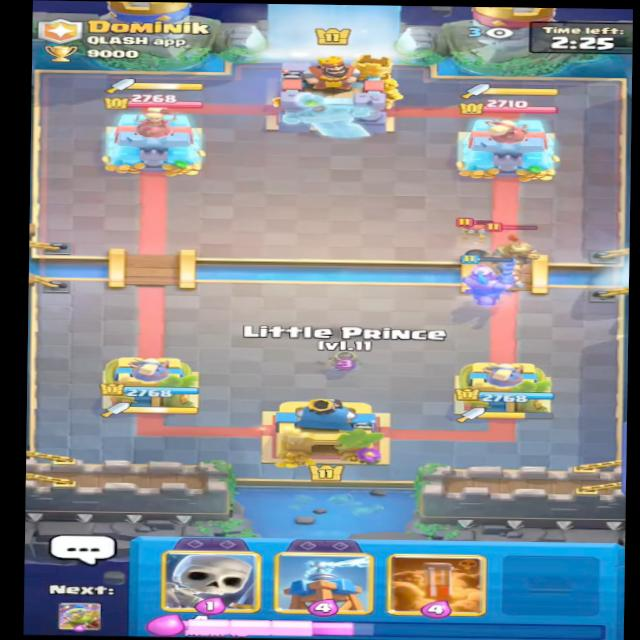bomber: (450, 215, 505, 259)
prince: (483, 222, 544, 287)
